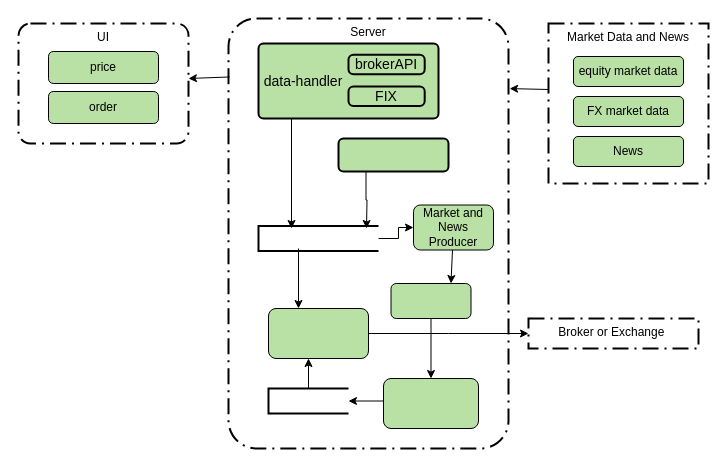
Some shapes in this 726 by 466 pixel diagram are drawn without their labels. The shapes that lost their labels are listed below. From the top down, each one's centre as x and y in pixels, then its label:
pixel 388 154: News crawler
pixel 318 238: Chronicle Queue
pixel 430 300: Kafka Server
pixel 318 333: order-management
pixel 308 400: Algorithms
pixel 430 403: Machine Learning
